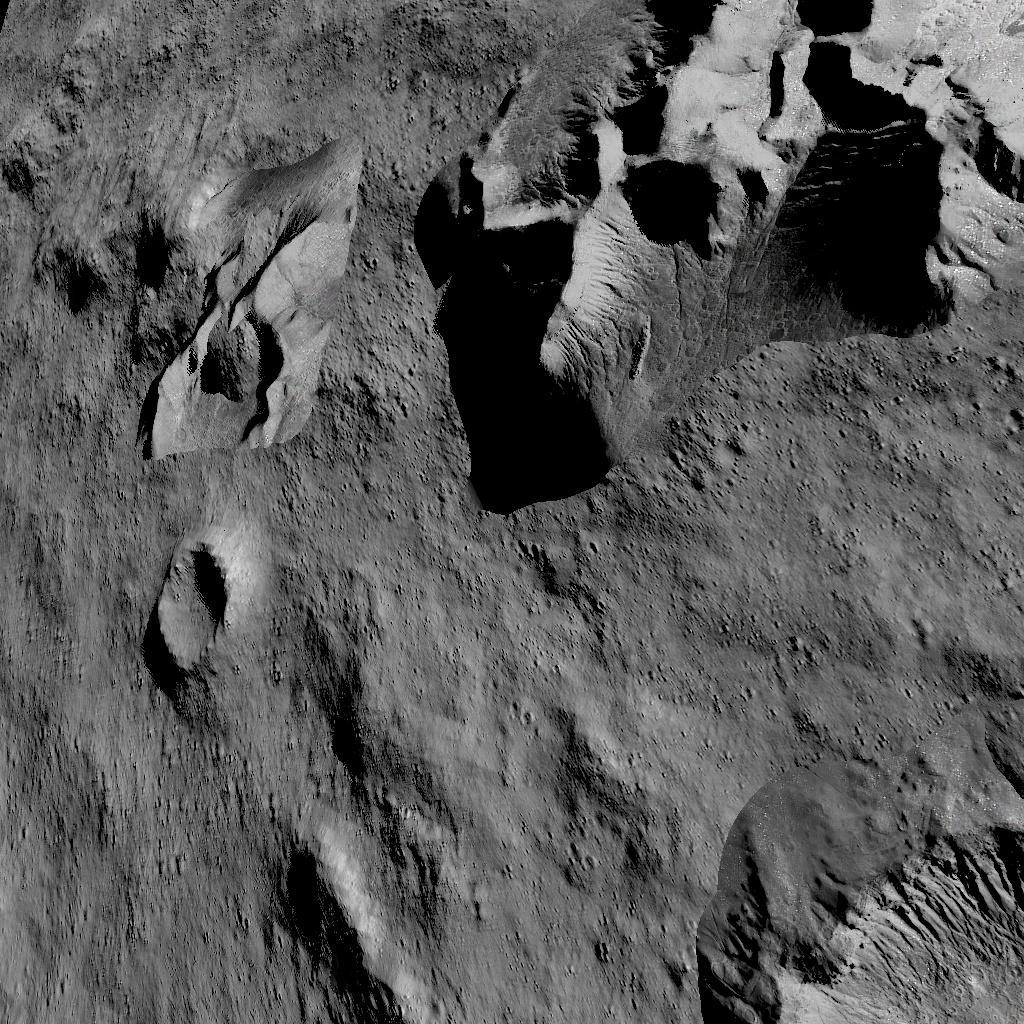Boulders: (395, 0, 1024, 521), (55, 150, 347, 468)
Crater: (684, 779, 1024, 1024), (131, 530, 237, 704)
Plan surface: (401, 532, 1024, 768), (1, 726, 237, 1024), (401, 776, 672, 1024), (3, 0, 381, 140)
